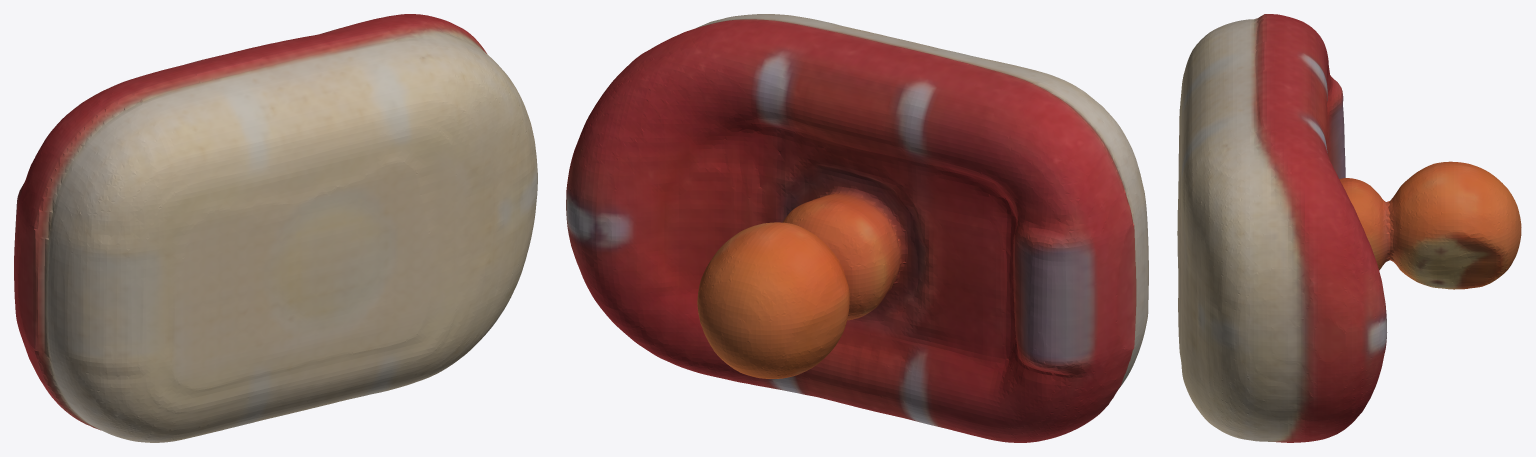
3 renders of one model, left to right at view 1: azimuth 30°, elevation 25°; view 2: azimuth 150°, elevation 25°; view 3: azimuth 270°, elevation 25°, orthographic. The views are drawn at different scales.
Parts seen in each view (by area): view 1: COAST_GUARD_BOAT.obj; view 2: COAST_GUARD_BOAT.obj; view 3: COAST_GUARD_BOAT.obj.
Boxes of the visible parts, left/top/right/bottom form: COAST_GUARD_BOAT.obj: left=14, top=14, right=537, bottom=442; COAST_GUARD_BOAT.obj: left=566, top=14, right=1148, bottom=442; COAST_GUARD_BOAT.obj: left=1177, top=14, right=1521, bottom=442.
Bounding box in the file's own units: 1.97 × 1.31 × 1.33.
